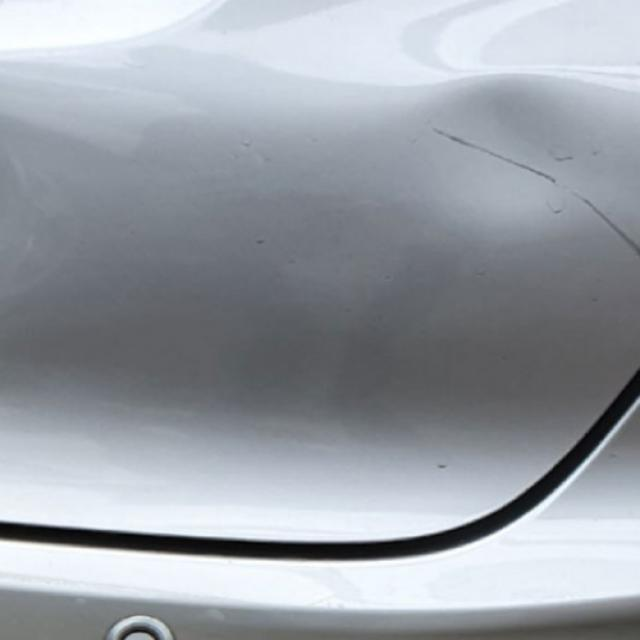dents: (362, 61, 640, 288)
